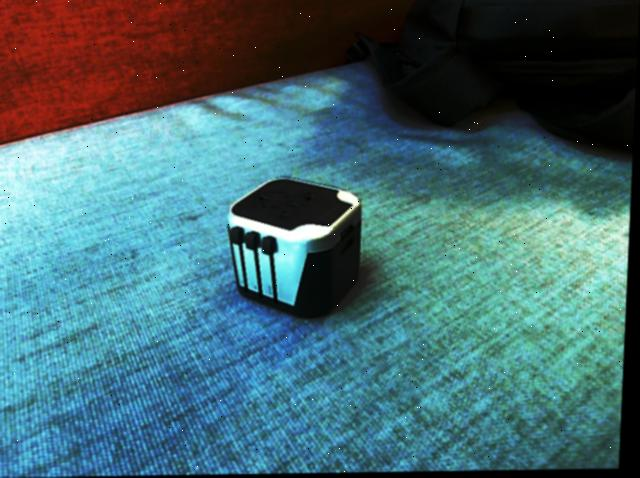adapter: (225, 176, 365, 321)
